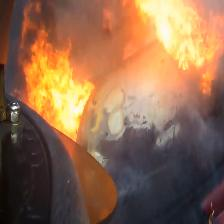fire: (11, 0, 94, 161), (123, 0, 224, 98)
